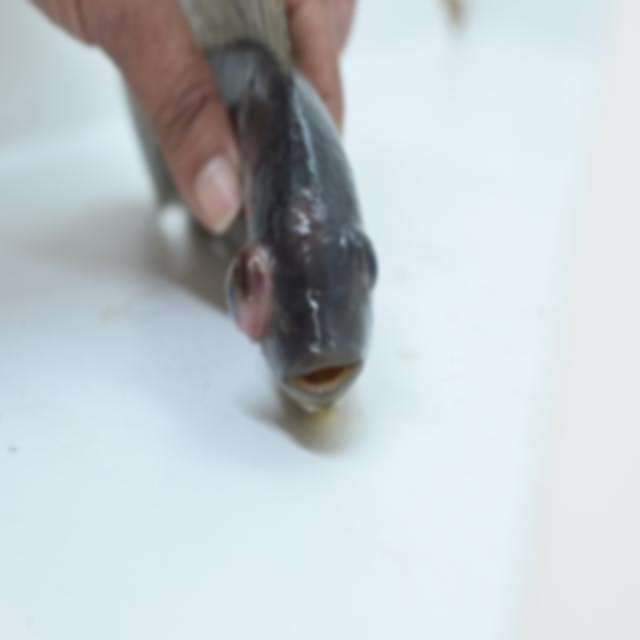streptococcus Disease: (116, 20, 386, 433)
